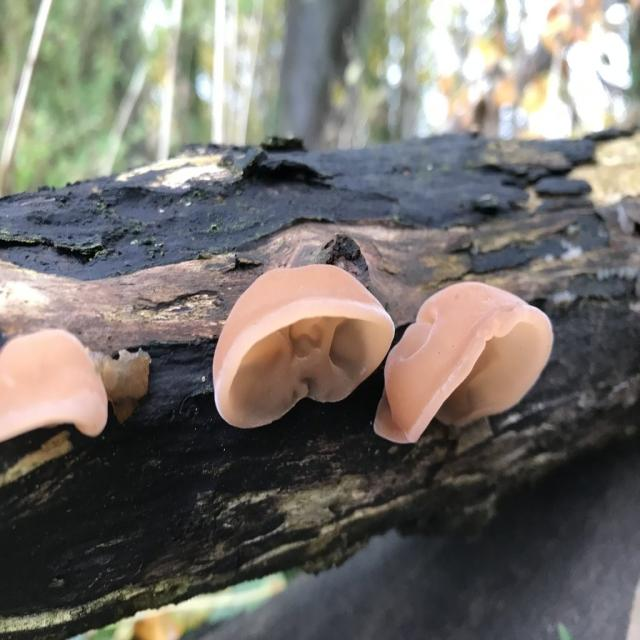Fase Muda: (209, 252, 399, 433), (372, 272, 557, 453), (0, 328, 109, 454)
